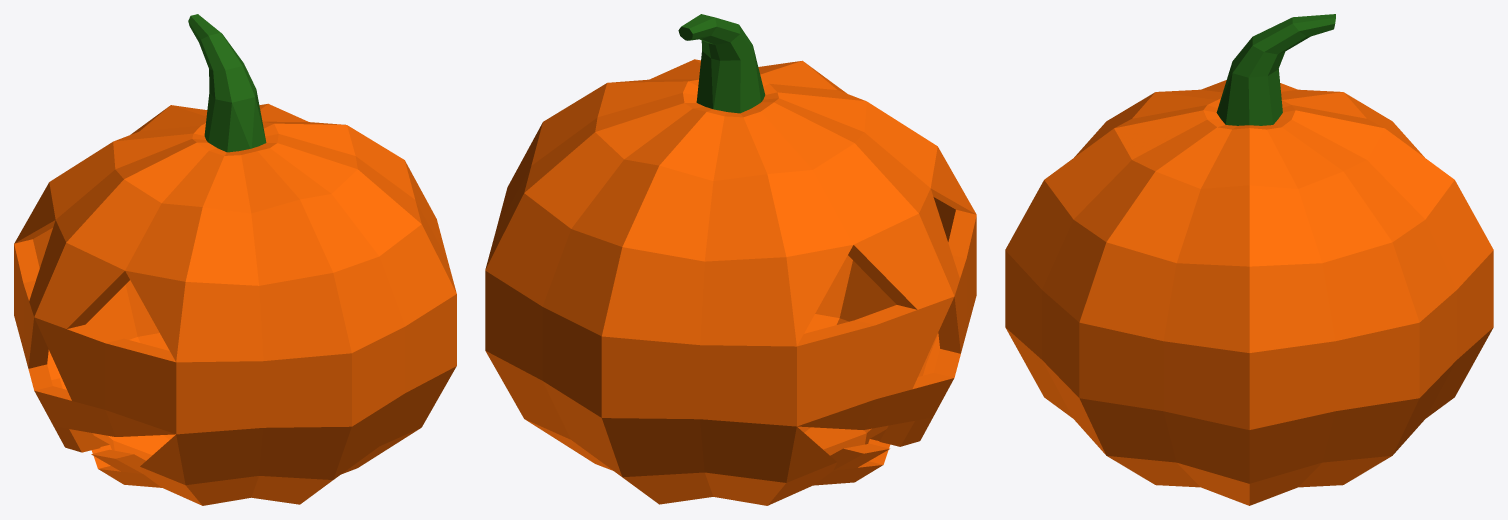
3 renders of one model, left to right at view 1: azimuth 30°, elevation 25°; view 2: azimuth 150°, elevation 25°; view 3: azimuth 270°, elevation 25°, orthographic. The views are drawn at different scales.
Parts seen in each view (by area): view 1: Calabaza_2; view 2: Calabaza_2; view 3: Calabaza_2.
Part boxes in pixels (x1,y1,x2,y2): Calabaza_2: (14,14,456,505); Calabaza_2: (485,14,976,505); Calabaza_2: (1005,14,1493,505).
Bounding box in the file's own units: 3.57 × 3.69 × 3.58.
1 material, 1 textured.
